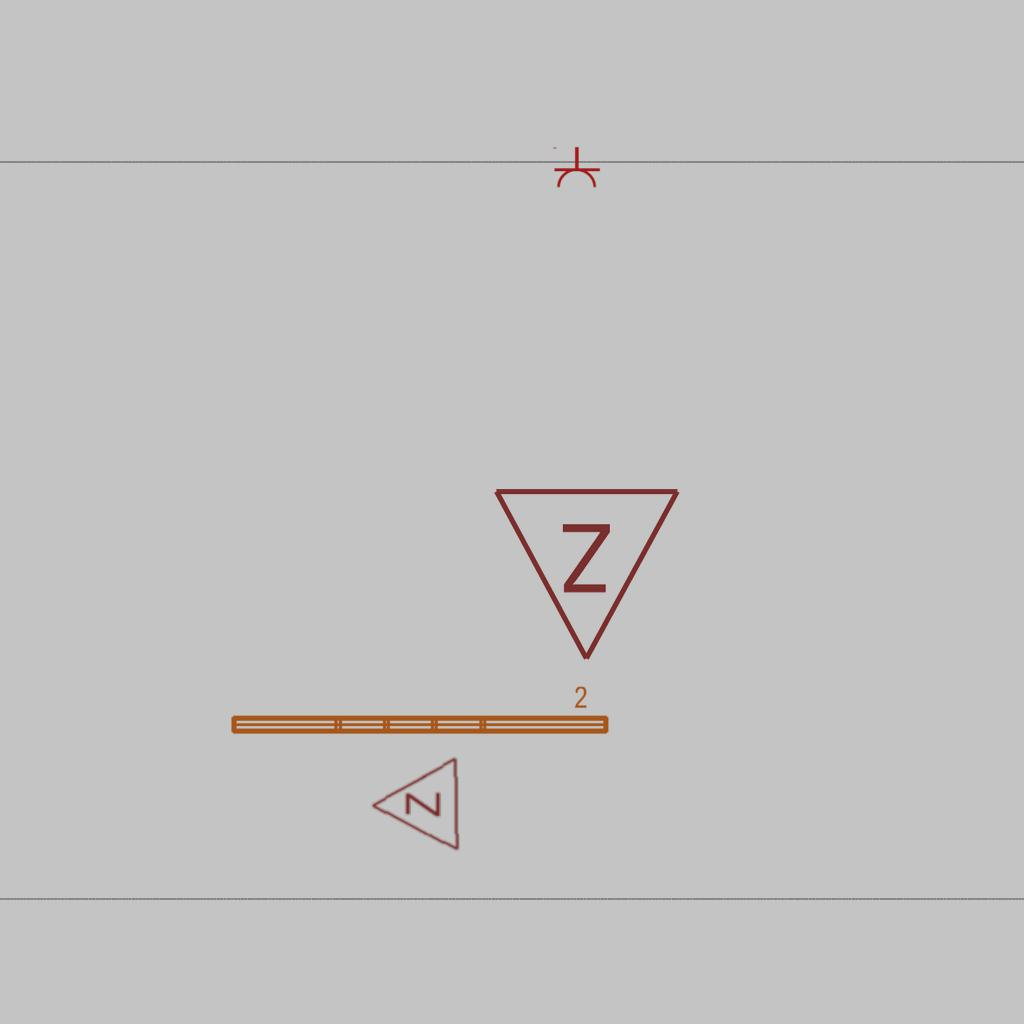Ambulanz_Pendelleuchte_LED: (226, 684, 613, 740)
Schukosteckdose_einfach: (551, 146, 601, 189)
Zimmersignalleuchte: (491, 474, 687, 674), (364, 756, 466, 856)
